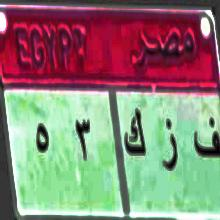3: (74, 111, 93, 168)
5: (32, 115, 52, 167)
faa: (192, 115, 220, 163)
kaaf: (122, 106, 149, 167)
zay: (161, 114, 179, 180)
